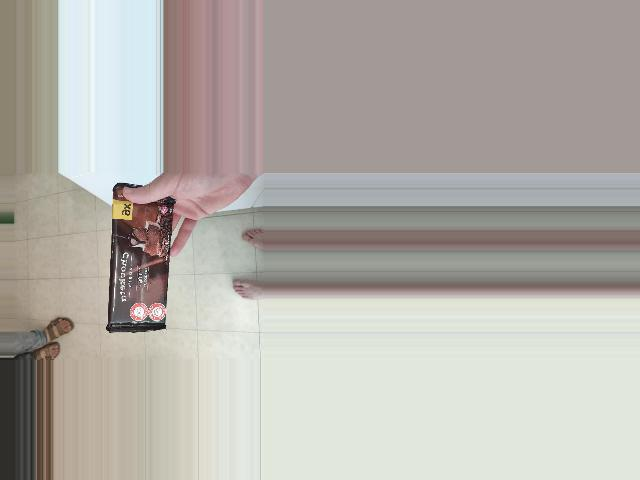chocolate: (36, 258, 191, 348)
